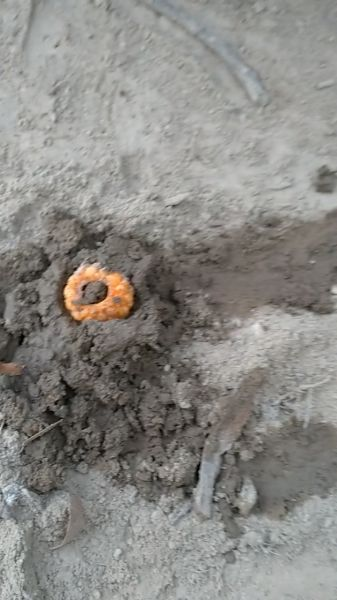eggs: (60, 261, 140, 323)
